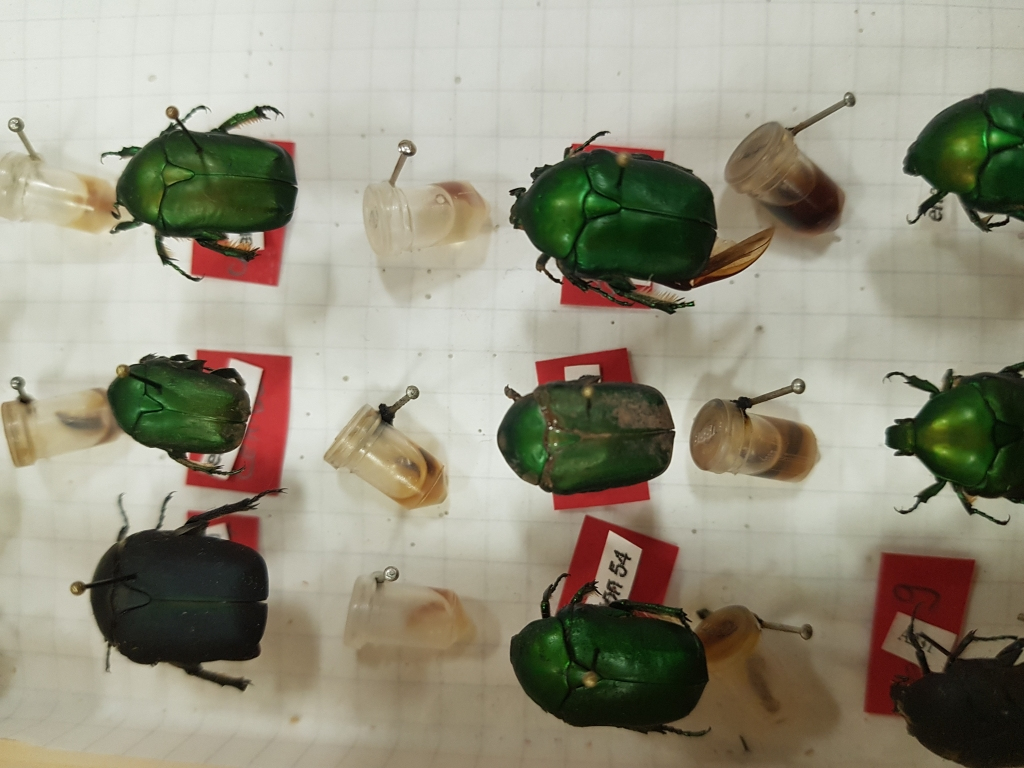Protaetia_ungarica_americana: (500, 99, 790, 321), (73, 468, 312, 697), (93, 84, 324, 284), (499, 574, 731, 742), (489, 365, 692, 496), (91, 338, 276, 466)
